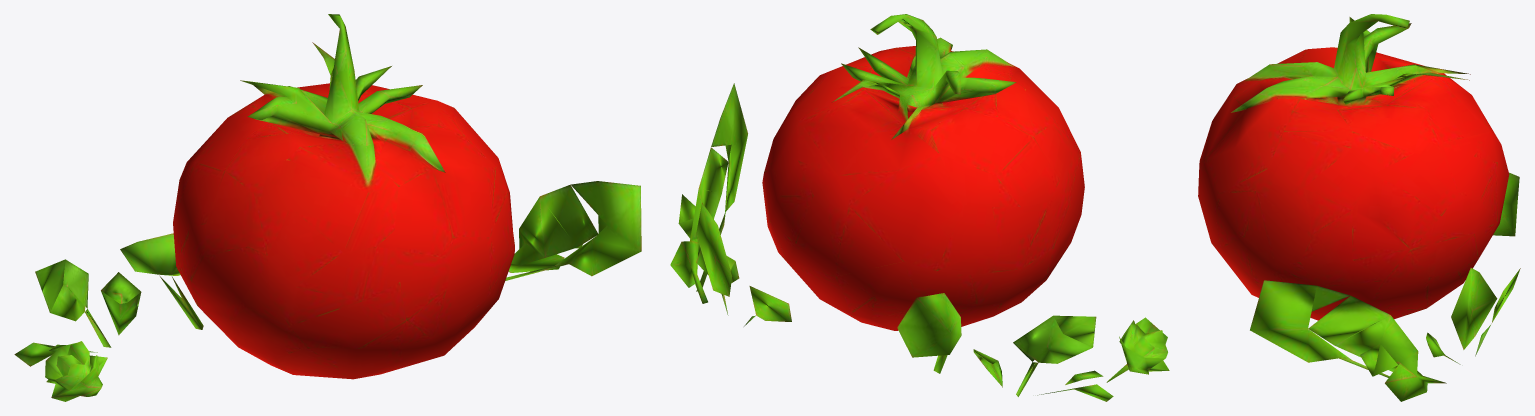
Rendered from tomato.glb.
3 views of the same model, side by side, from view 1: azimuth 30°, elevation 25°; view 2: azimuth 150°, elevation 25°; view 3: azimuth 270°, elevation 25° (orthographic). The views are drawn at different scales.
Size of the model in its own units: 1.9 by 1.13 by 1.1.
Materials: 1 (1 with a texture image).
